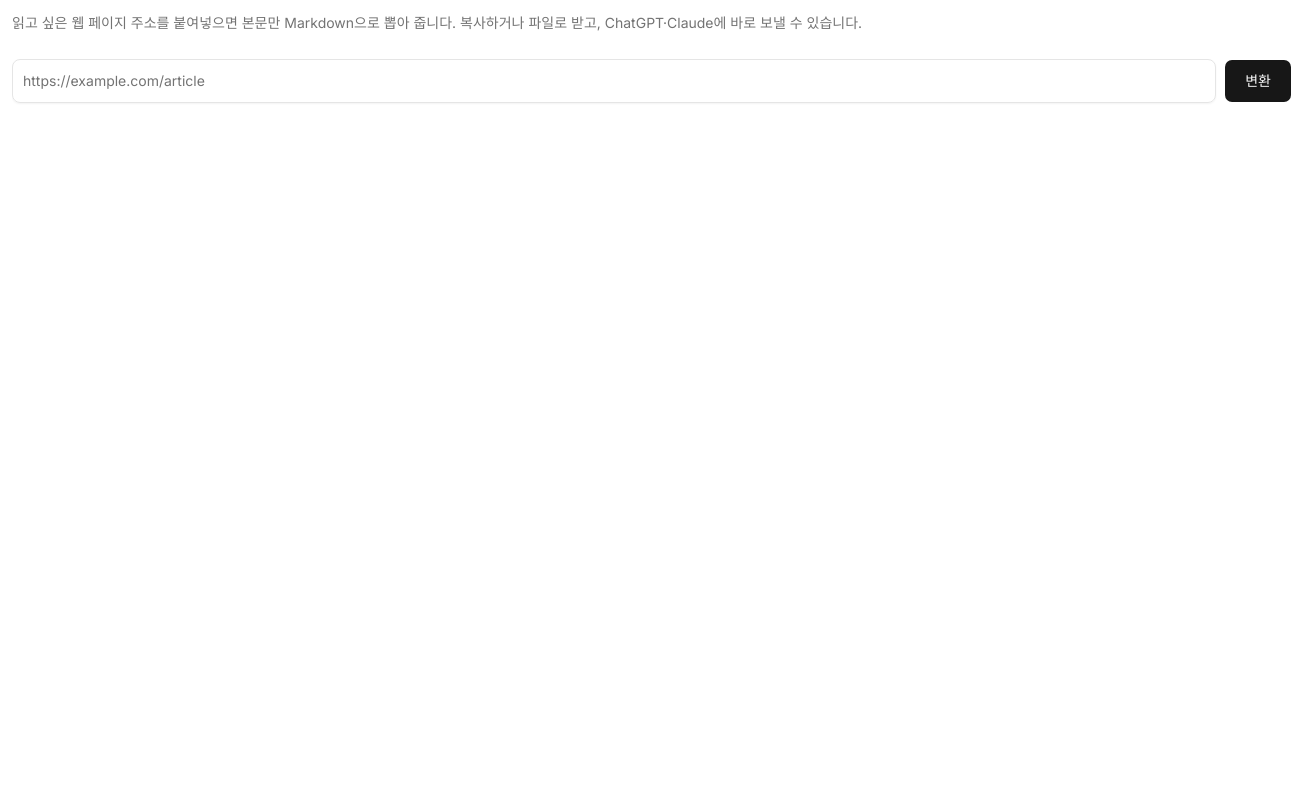
Test: 복사하기는 프롬프트를 선택해도 Markdown 본문만 복사하고 피드백을 보인다
This screenshot has width=1304, height=812.
Type "https://example.com/a" into the field named "웹 페이지 URL" at (614, 81), box [12,59,1216,103]
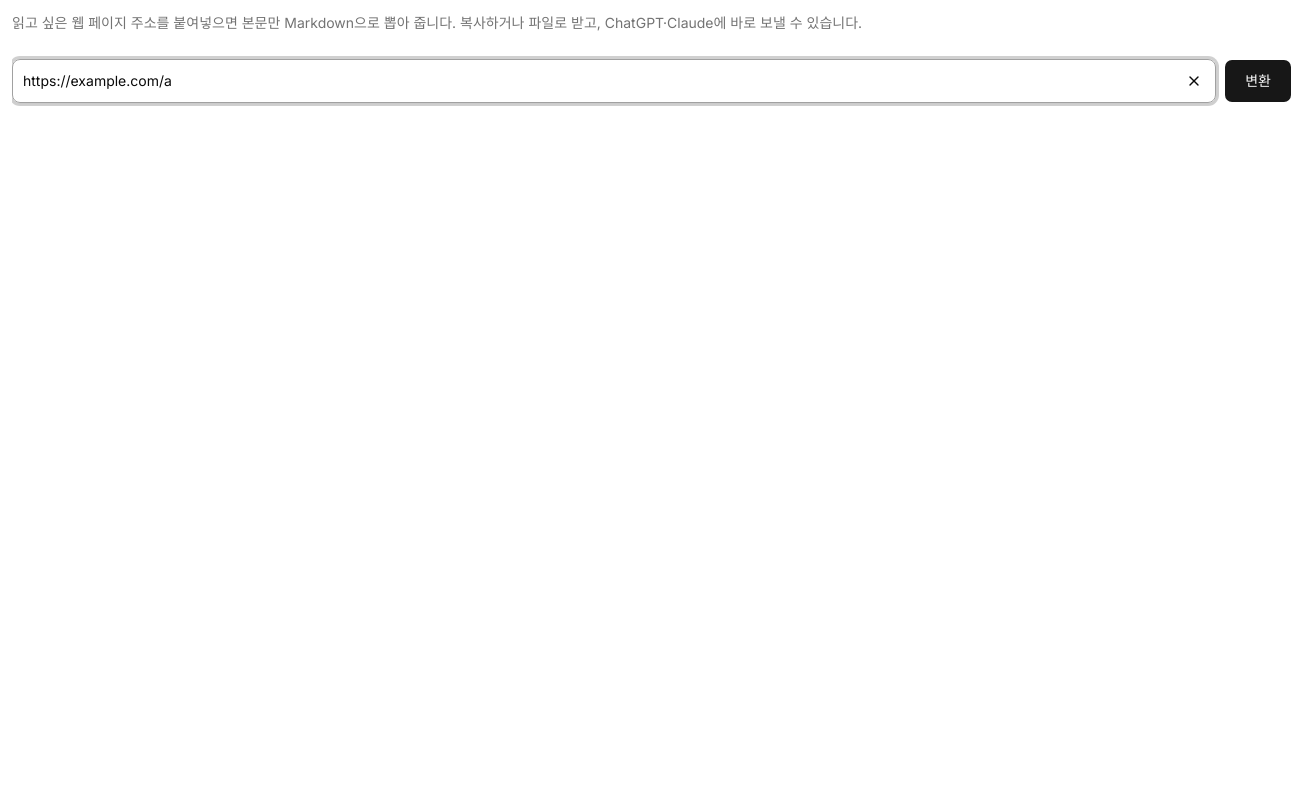
Click the button "변환" at (1258, 81), box [1224,59,1292,103]
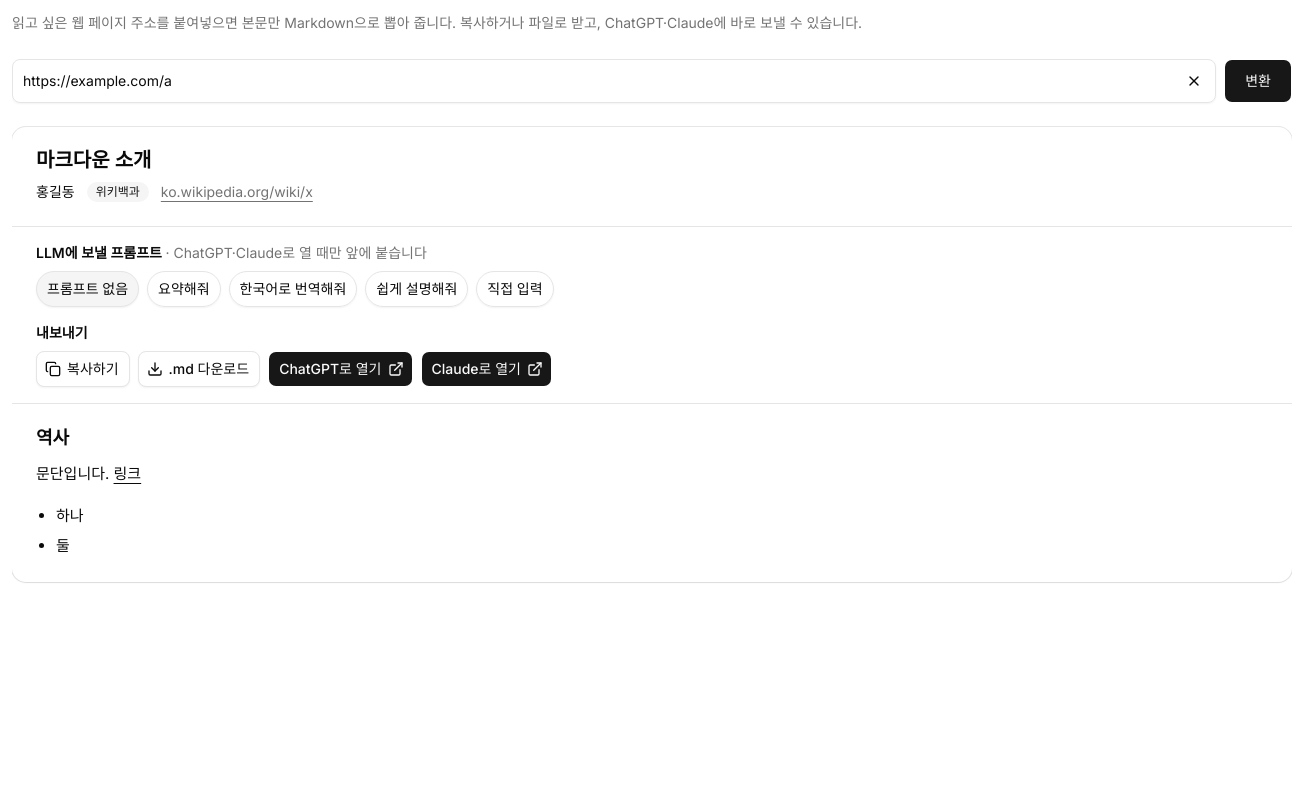
Now the element that starts with "마크다운 소개" is shown, box [12,127,1292,582]
Click the button "요약해줘" at (184, 289), box [147,271,220,307]
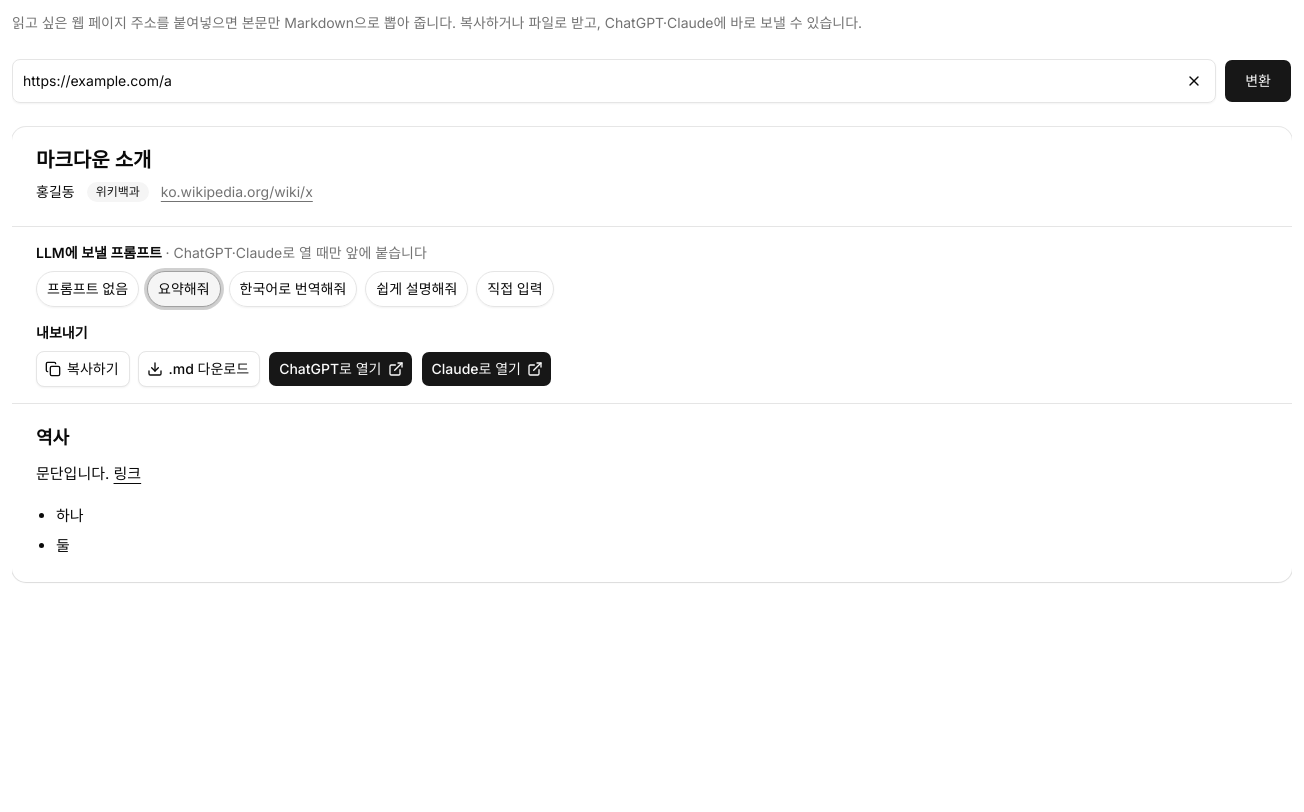
Click the button "복사하기" at (83, 369), box [36,351,130,387]
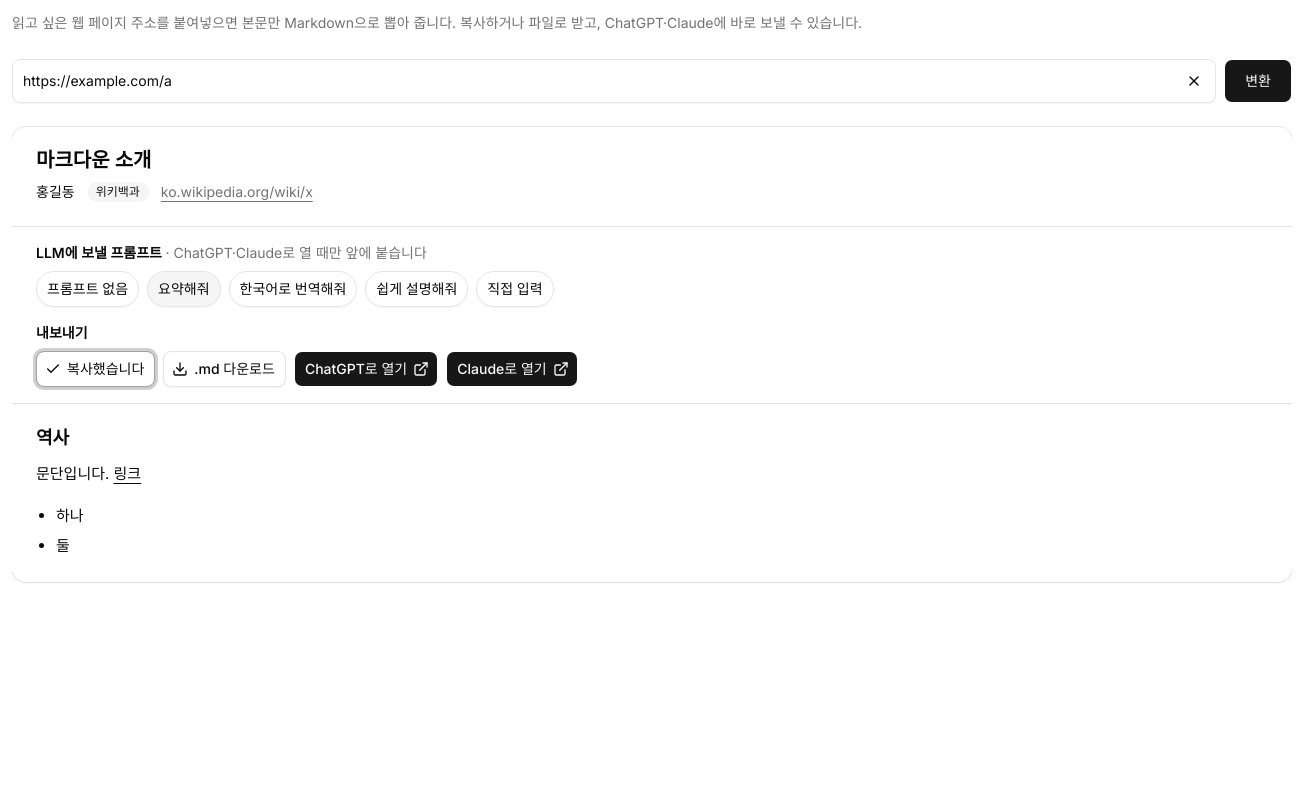
Now the button "복사했습니다" is shown, box [36,351,155,387]
